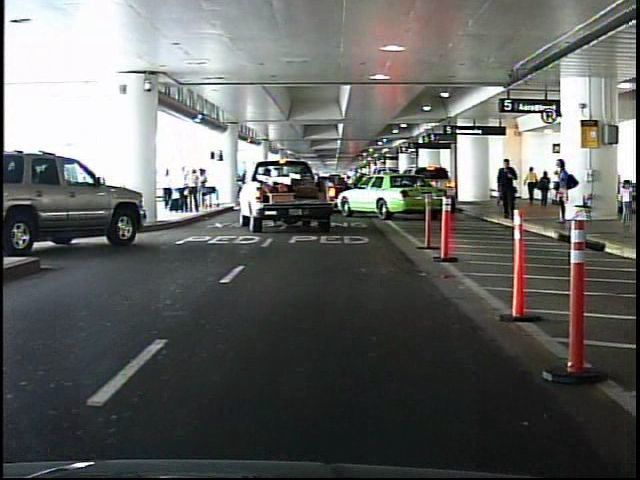person: (548, 156, 575, 226), (495, 156, 518, 220), (616, 177, 634, 228), (540, 171, 552, 208), (526, 166, 537, 204)
